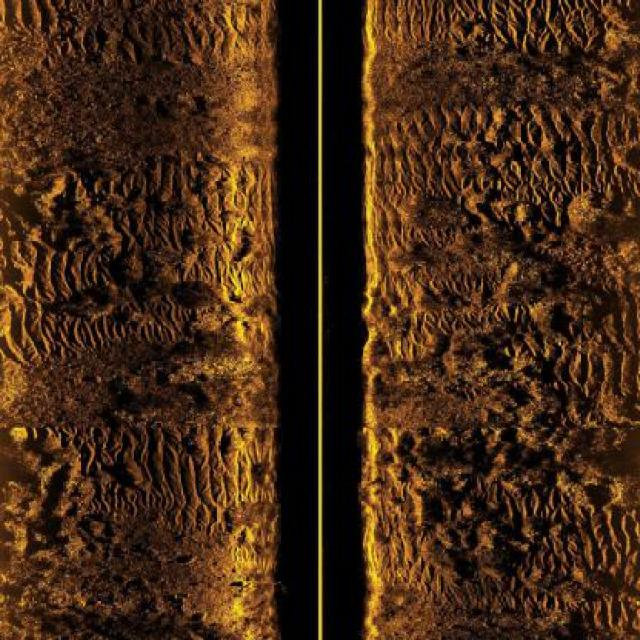mine: (571, 89, 603, 102), (188, 608, 208, 622)
